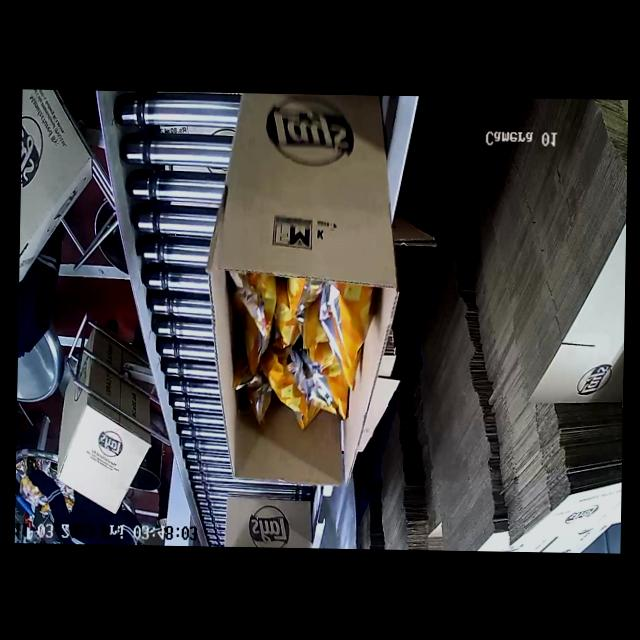cheese: (219, 263, 373, 428)
